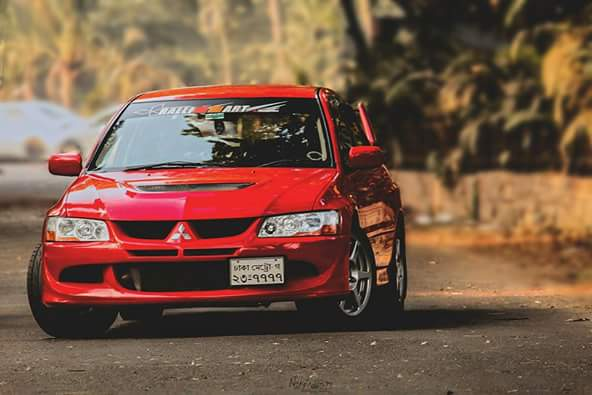registration_plate: (229, 256, 284, 285)
